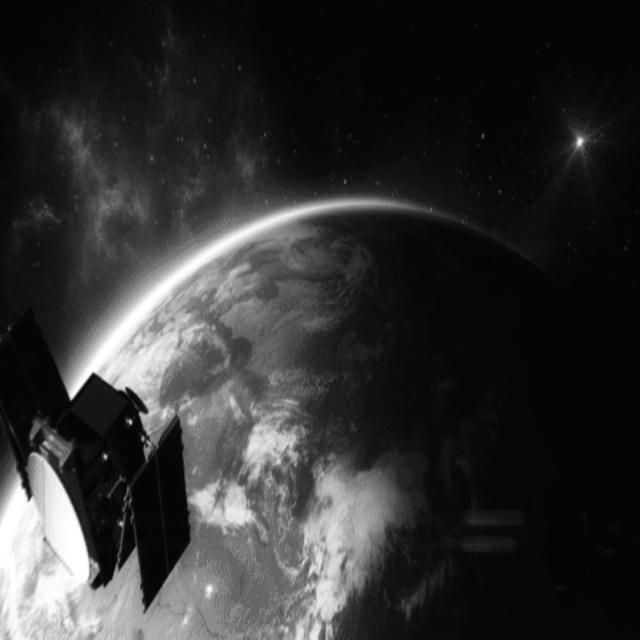satellite: (4, 312, 201, 616)
